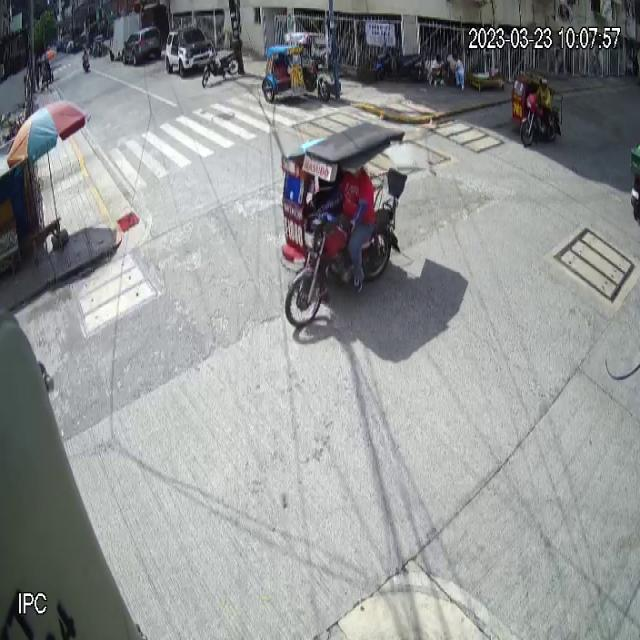Tricycle: (280, 120, 408, 326), (262, 32, 331, 104), (511, 72, 564, 148)
